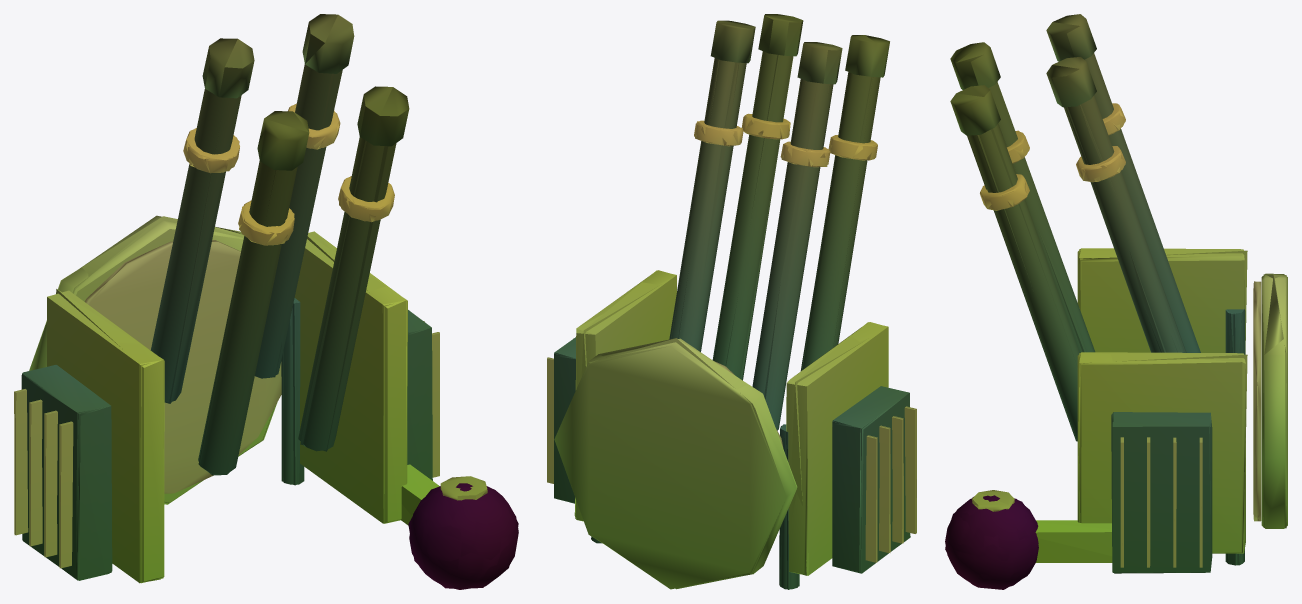
Rendered from RCLModule_skyguard_sam_solar_flare_radiation_shield_sponsons_LODs.fbx.
The picture shows the model from 3 angles, left to right: view 1: azimuth 30°, elevation 25°; view 2: azimuth 150°, elevation 25°; view 3: azimuth 270°, elevation 25°; orthographic projection. The views are drawn at different scales.
Parts seen in each view (by area): view 1: LOD1_RCLModule_skyguard_sam_solar_flare_radiation_shield_spo (×3), LOD2_RCLModule_skyguard_sam_solar_flare_radiation_shield_spo (×3); view 2: LOD1_RCLModule_skyguard_sam_solar_flare_radiation_shield_spo (×3), LOD2_RCLModule_skyguard_sam_solar_flare_radiation_shield_spo (×3); view 3: LOD1_RCLModule_skyguard_sam_solar_flare_radiation_shield_spo (×3), LOD2_RCLModule_skyguard_sam_solar_flare_radiation_shield_spo (×3).
Part boxes in pixels (x1,y1,x2,y2): LOD1_RCLModule_skyguard_sam_solar_flare_radiation_shield_spo (×3): (14, 14, 518, 589); LOD2_RCLModule_skyguard_sam_solar_flare_radiation_shield_spo (×3): (14, 64, 518, 588); LOD1_RCLModule_skyguard_sam_solar_flare_radiation_shield_spo (×3): (547, 14, 916, 589); LOD2_RCLModule_skyguard_sam_solar_flare_radiation_shield_spo (×3): (547, 51, 916, 589); LOD1_RCLModule_skyguard_sam_solar_flare_radiation_shield_spo (×3): (945, 14, 1287, 588); LOD2_RCLModule_skyguard_sam_solar_flare_radiation_shield_spo (×3): (945, 54, 1286, 589).
Bounding box in the file's own units: 36.5 × 51.17 × 32.6.
